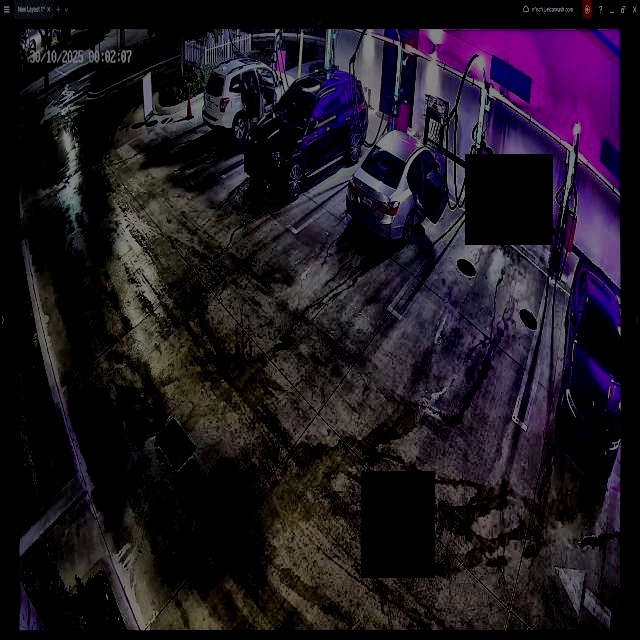Car: (245, 66, 368, 197), (346, 131, 449, 246)
